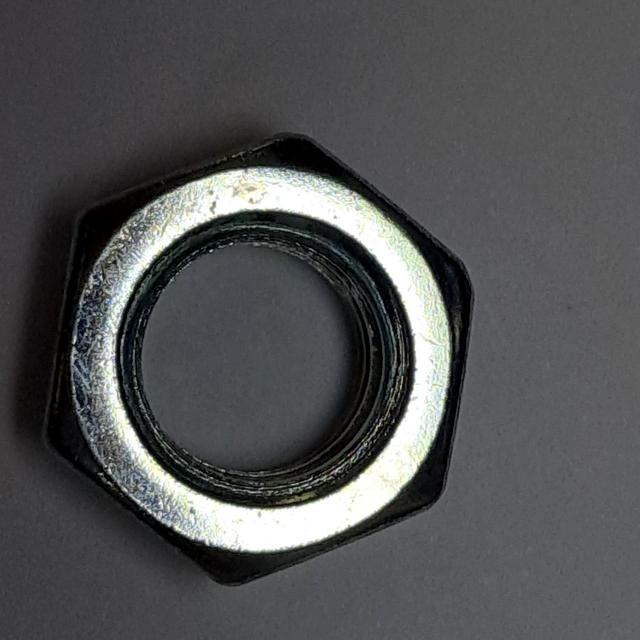Excellent: (30, 117, 487, 596)
